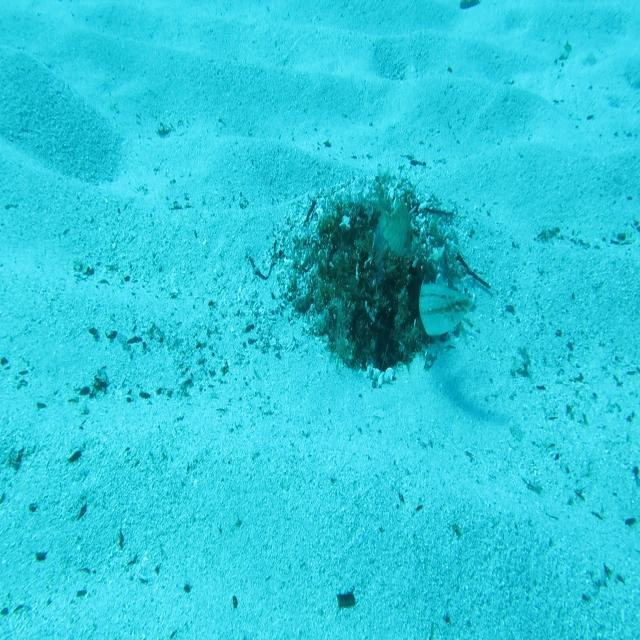NIP_IN: (370, 180, 413, 262)
core_nest: (344, 217, 389, 266)
female: (418, 272, 475, 344)
nest: (266, 168, 482, 401)
vegetation: (337, 590, 355, 610), (458, 0, 482, 11)
